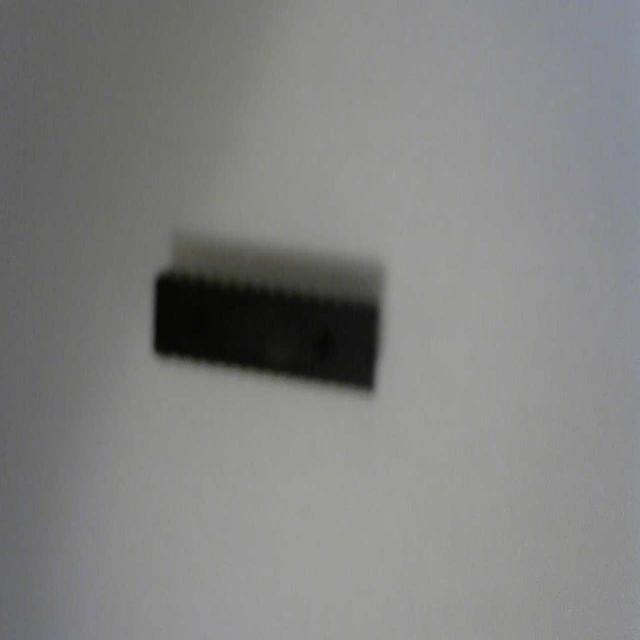atmega: (150, 231, 386, 398)
